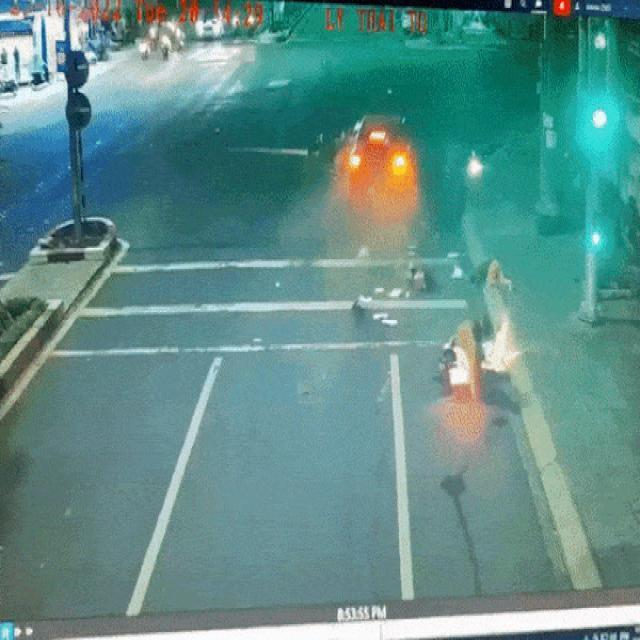multiple_accident: (305, 93, 525, 418)
